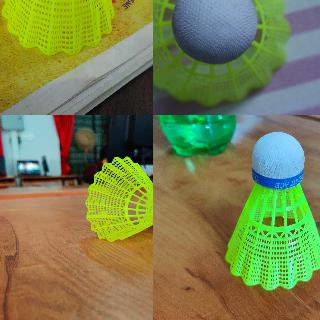shuttlecock: (153, 0, 291, 106), (226, 132, 319, 289), (2, 0, 115, 55), (85, 156, 152, 243)
